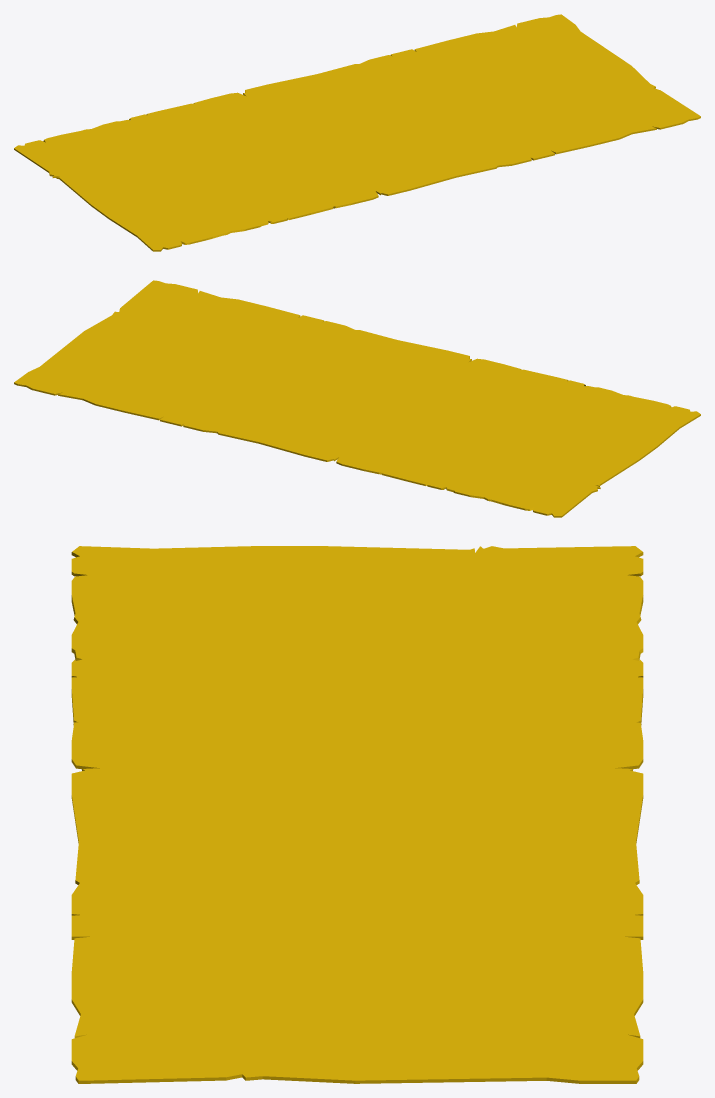
The model's file is paper small tex.glb.
3 renders of one model, top to bottom at view 1: azimuth 30°, elevation 25°; view 2: azimuth 150°, elevation 25°; view 3: azimuth 270°, elevation 25°, orthographic. The views are drawn at different scales.
Visible parts, largest first — view 1: Cube; view 2: Cube; view 3: Cube.
Part boxes in pixels (left/top/right/bottom): Cube: left=14, top=14, right=700, bottom=251; Cube: left=14, top=280, right=700, bottom=517; Cube: left=71, top=546, right=643, bottom=1083.
Size of the model in its own units: 16.77 by 0.0476 by 7.57.
